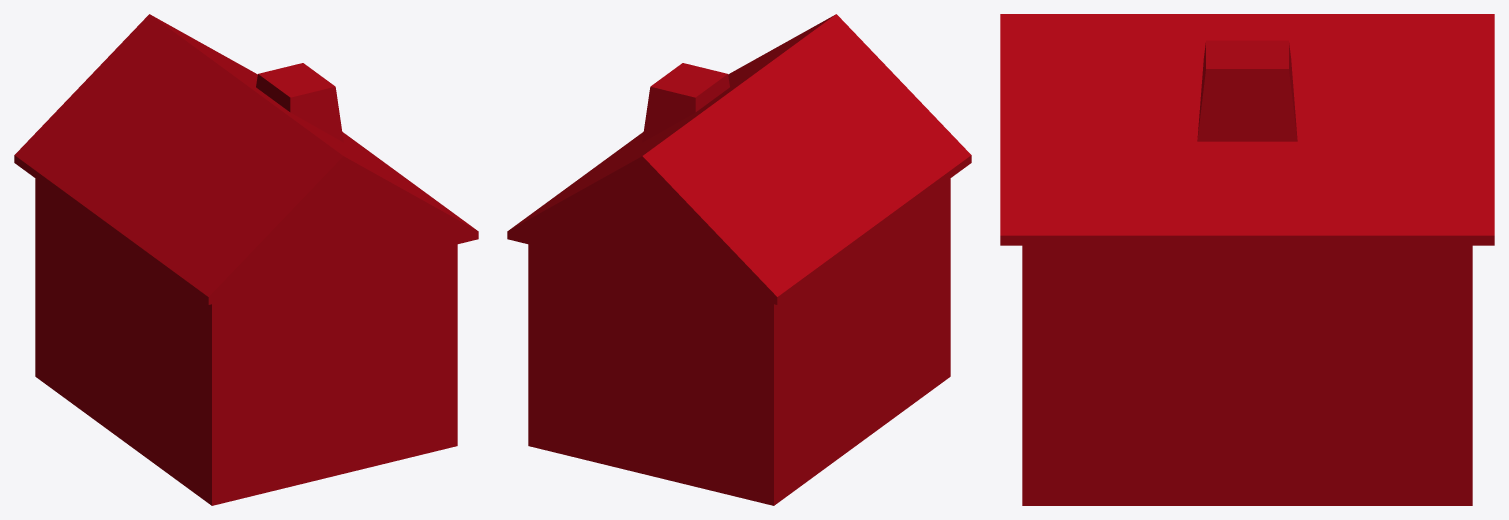
File: Hotel.obj
3 views of the same model, side by side, from view 1: azimuth 30°, elevation 25°; view 2: azimuth 150°, elevation 25°; view 3: azimuth 270°, elevation 25° (orthographic). The views are drawn at different scales.
Parts seen in each view (by area): view 1: Cube.001; view 2: Cube.001; view 3: Cube.001.
Part boxes in pixels (x1,y1,x2,y2): Cube.001: [14, 14, 478, 505]; Cube.001: [507, 14, 971, 505]; Cube.001: [1000, 14, 1494, 505].
Bounding box in the file's own units: 2.2 × 2.54 × 2.74.
Materials: 1 (1 with a texture image).
